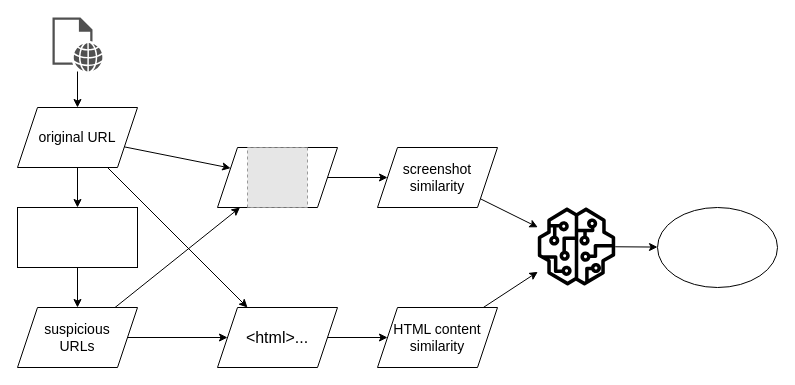
Image size: 795x385. Some labels were removed from this diagram. Grey dashed boxes stand in for pictures. The shapes that lost their labels are listed below. From the top down, each one's centre as x and y in pixels, then its label:
At point (77, 237): "similar URL generator".
At point (717, 247): "phishing/not".
